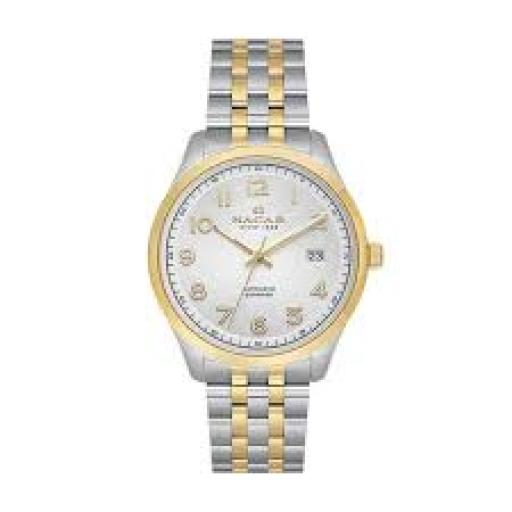KolSaati: (106, 35, 410, 484)
